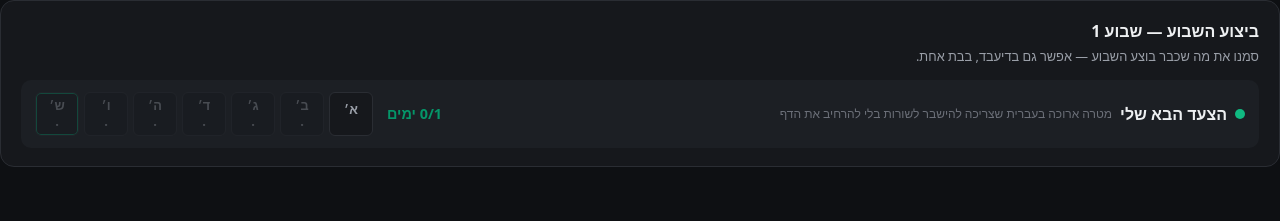
Test: confirmed feedback in today › keeps failed saves retryable with a friendly alert and no pop
The width and height of the screenshot is (1280, 221).
Click the button named "הצעד הבא שלי — א׳": (351, 114) x1=329 y1=92 x2=373 y2=136
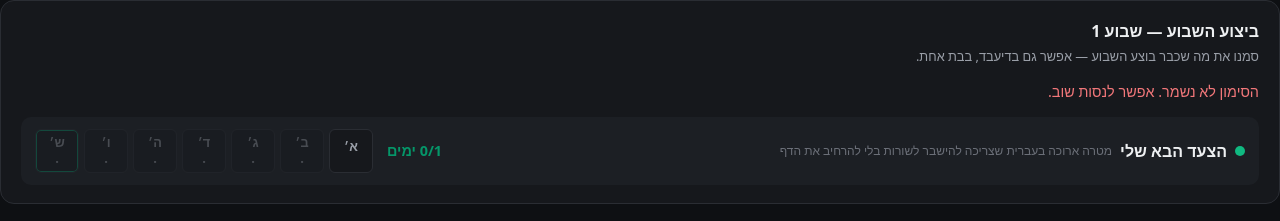
Expected: the button named "הצעד הבא שלי — א׳" is enabled, x1=329 y1=129 x2=373 y2=173
Now the message shows "הסימון לא נשמר", box x1=1048 y1=82 x2=1259 y2=101
